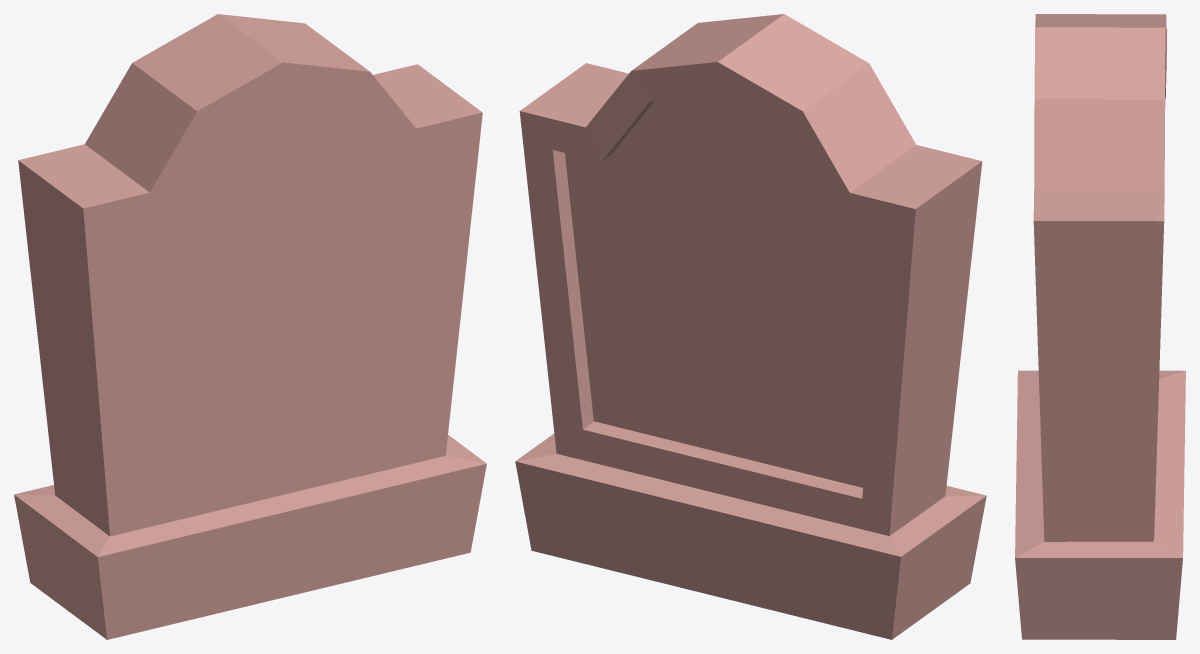
The model's file is ENV_Gravestone01_Placeholder02.fbx.
3 views of the same model, side by side, from view 1: azimuth 30°, elevation 25°; view 2: azimuth 150°, elevation 25°; view 3: azimuth 270°, elevation 25° (orthographic).
Parts seen in each view (by area): view 1: Plane; view 2: Plane; view 3: Plane.
Part boxes in pixels (bbox=[...]): Plane: bbox=[14, 14, 486, 639]; Plane: bbox=[515, 14, 986, 639]; Plane: bbox=[1015, 14, 1185, 639].
Bounding box in the file's own units: 32.7 × 87.25 × 111.
